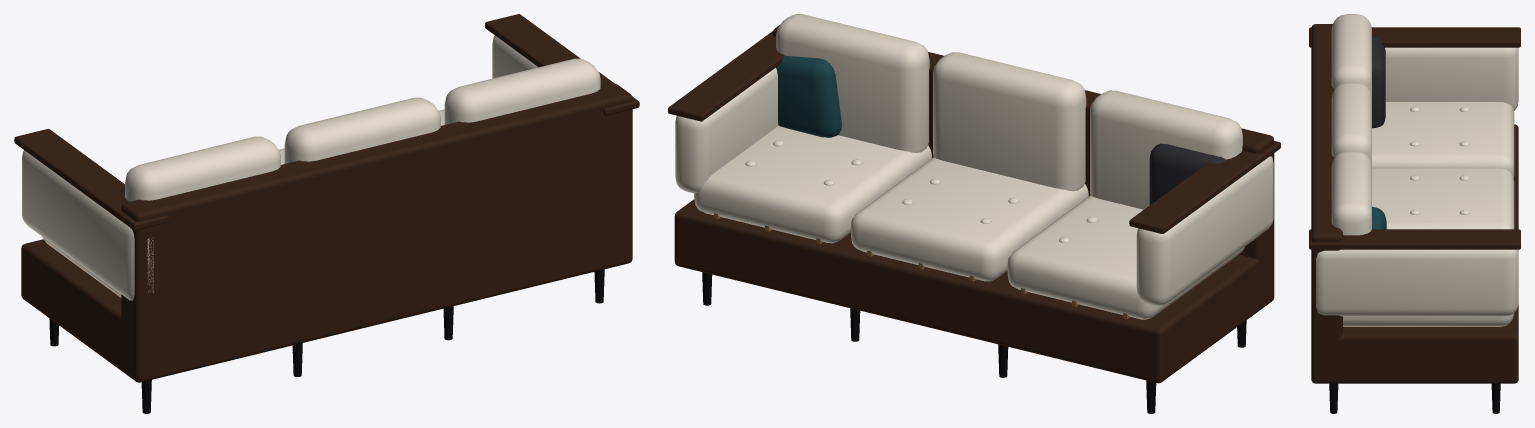
File: modern_sofa.obj
The picture shows the model from 3 angles, left to right: view 1: azimuth 30°, elevation 25°; view 2: azimuth 150°, elevation 25°; view 3: azimuth 270°, elevation 25°; orthographic projection. The views are drawn at different scales.
Parts seen in each view (by area): view 1: back_frame, base, armrest, back_cushion_1, back_cushion_2, back_cushion_0, armrest_cap, armrest_cap.001, armrest.001; view 2: base, seat_1, back_cushion_1, seat_2, back_cushion_2, seat_0, back_cushion_0, armrest, armrest.001, pillow_b, armrest_cap, armrest_cap.001 (+2 smaller); view 3: armrest.001, base, seat_0, seat_1, armrest, back_frame, armrest_cap.001, back_cushion_2, armrest_cap, back_cushion_1, back_cushion_0, seat_2 (+4 smaller).
Boxes of the visible parts, x1=… form: back_frame: x1=121, y1=83, x2=632, y2=344; base: x1=21, y1=213, x2=632, y2=382; armrest: x1=22, y1=150, x2=153, y2=300; back_cushion_1: x1=284, y1=97, x2=440, y2=163; back_cushion_2: x1=444, y1=58, x2=600, y2=124; back_cushion_0: x1=125, y1=136, x2=280, y2=201; armrest_cap: x1=14, y1=129, x2=168, y2=230; armrest_cap.001: x1=485, y1=14, x2=639, y2=115; armrest.001: x1=492, y1=35, x2=537, y2=78; base: x1=674, y1=199, x2=1274, y2=383; seat_1: x1=851, y1=157, x2=1088, y2=281; back_cushion_1: x1=933, y1=52, x2=1086, y2=191; seat_2: x1=694, y1=126, x2=931, y2=243; back_cushion_2: x1=776, y1=14, x2=929, y2=152; seat_0: x1=1007, y1=196, x2=1244, y2=319; back_cushion_0: x1=1090, y1=90, x2=1242, y2=209; armrest: x1=1136, y1=156, x2=1273, y2=305; armrest.001: x1=675, y1=68, x2=778, y2=193; pillow_b: x1=776, y1=55, x2=841, y2=137; armrest_cap: x1=1129, y1=141, x2=1280, y2=233; armrest_cap.001: x1=668, y1=31, x2=784, y2=121; armrest.001: x1=1316, y1=249, x2=1518, y2=316; base: x1=1311, y1=124, x2=1518, y2=383; seat_0: x1=1372, y1=102, x2=1514, y2=177; seat_1: x1=1372, y1=167, x2=1514, y2=229; armrest: x1=1385, y1=47, x2=1518, y2=110; back_frame: x1=1311, y1=24, x2=1342, y2=349; armrest_cap.001: x1=1309, y1=229, x2=1520, y2=249; back_cushion_2: x1=1331, y1=151, x2=1371, y2=235; armrest_cap: x1=1309, y1=27, x2=1520, y2=47; back_cushion_1: x1=1331, y1=82, x2=1371, y2=165; back_cushion_0: x1=1331, y1=14, x2=1371, y2=96; seat_2: x1=1343, y1=313, x2=1513, y2=326.
Bounding box in the file's own units: 2.28 × 1.01 × 0.94.
